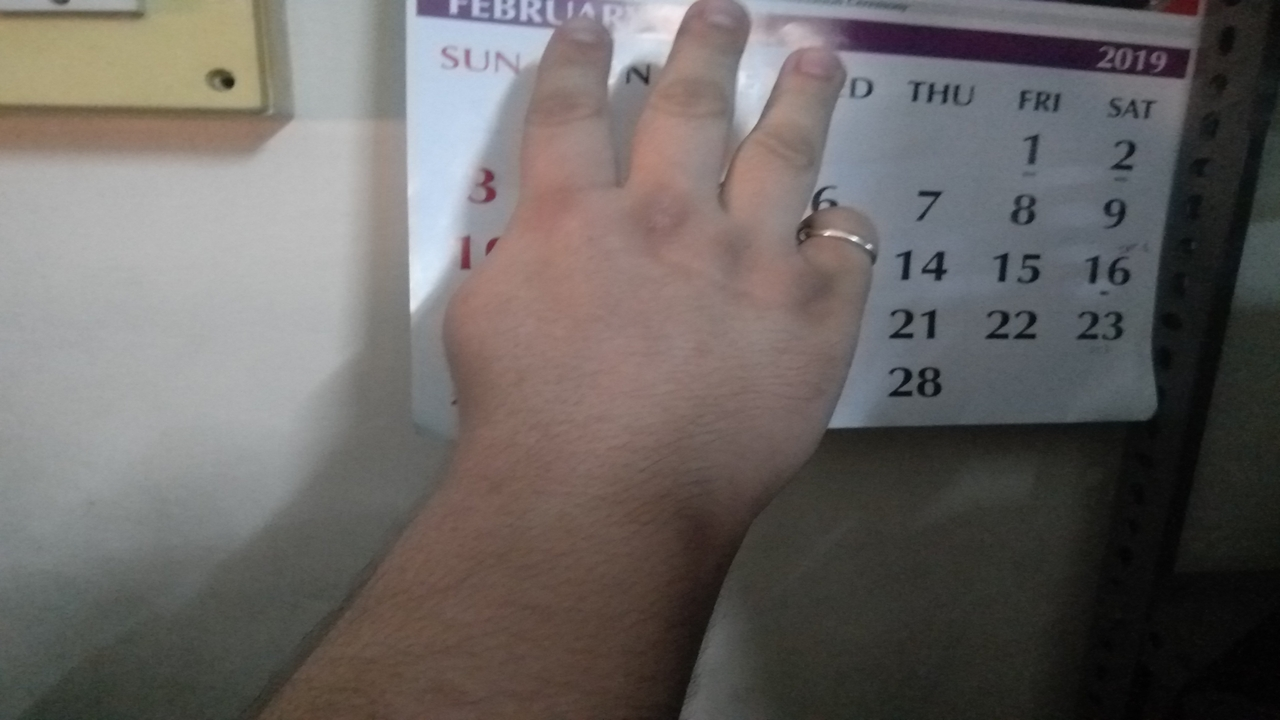fingertip: (778, 38, 844, 96), (676, 2, 759, 46), (553, 12, 621, 57)
